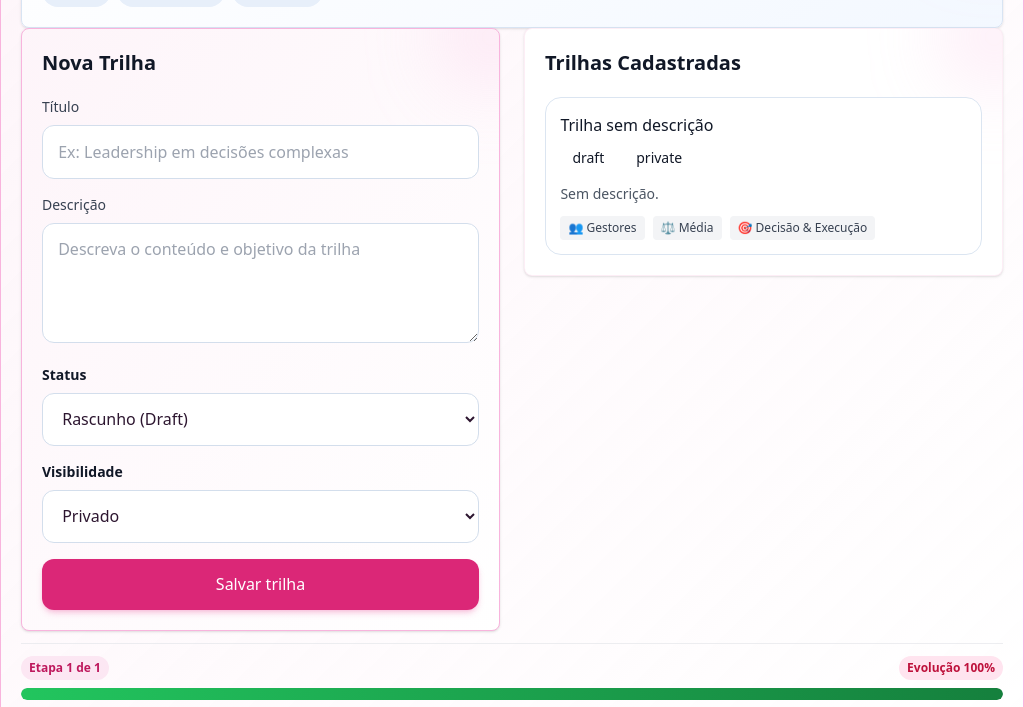
Test: TracksPage › renderiza fallback de descrição e mostra erro ao salvar
(page scrolled)
Expected: the heading "Trilha sem descrição" is shown, [560, 114, 714, 136]
Expected: the text "Sem descrição." is shown, [560, 184, 659, 203]
Click the button "Salvar trilha": (260,584) [42, 559, 479, 610]
(page scrolled)
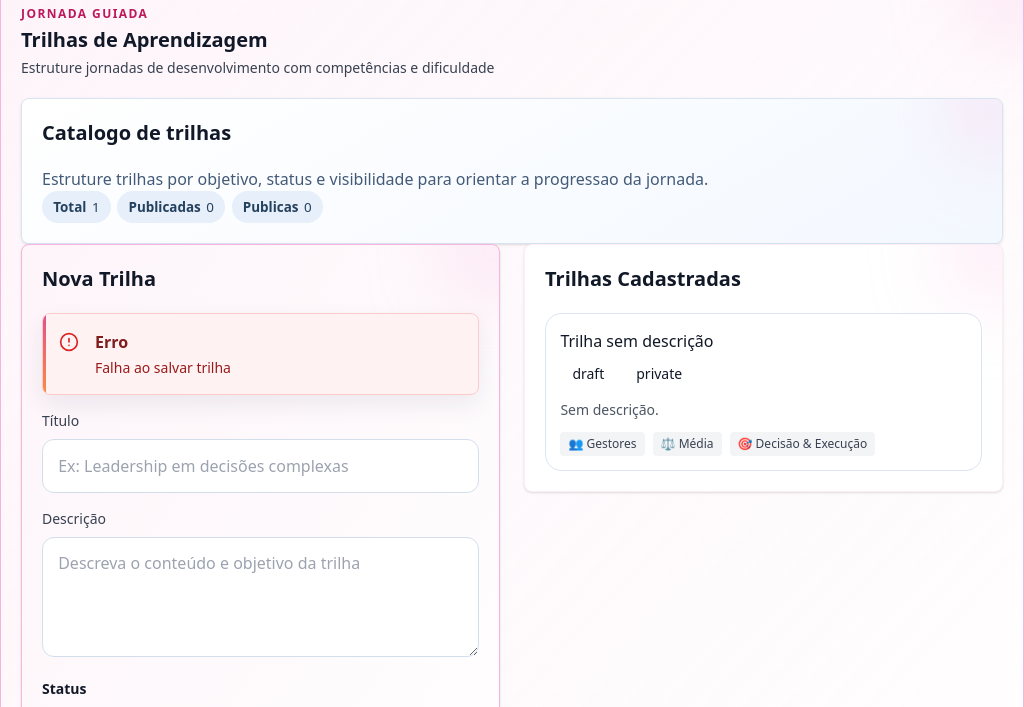
Now the text "Falha ao salvar trilha" is shown, box [95, 358, 231, 377]
